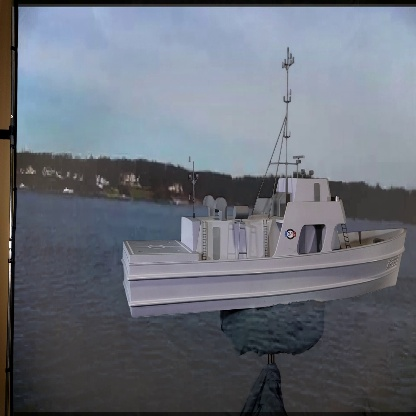YP689: (120, 43, 409, 319)
